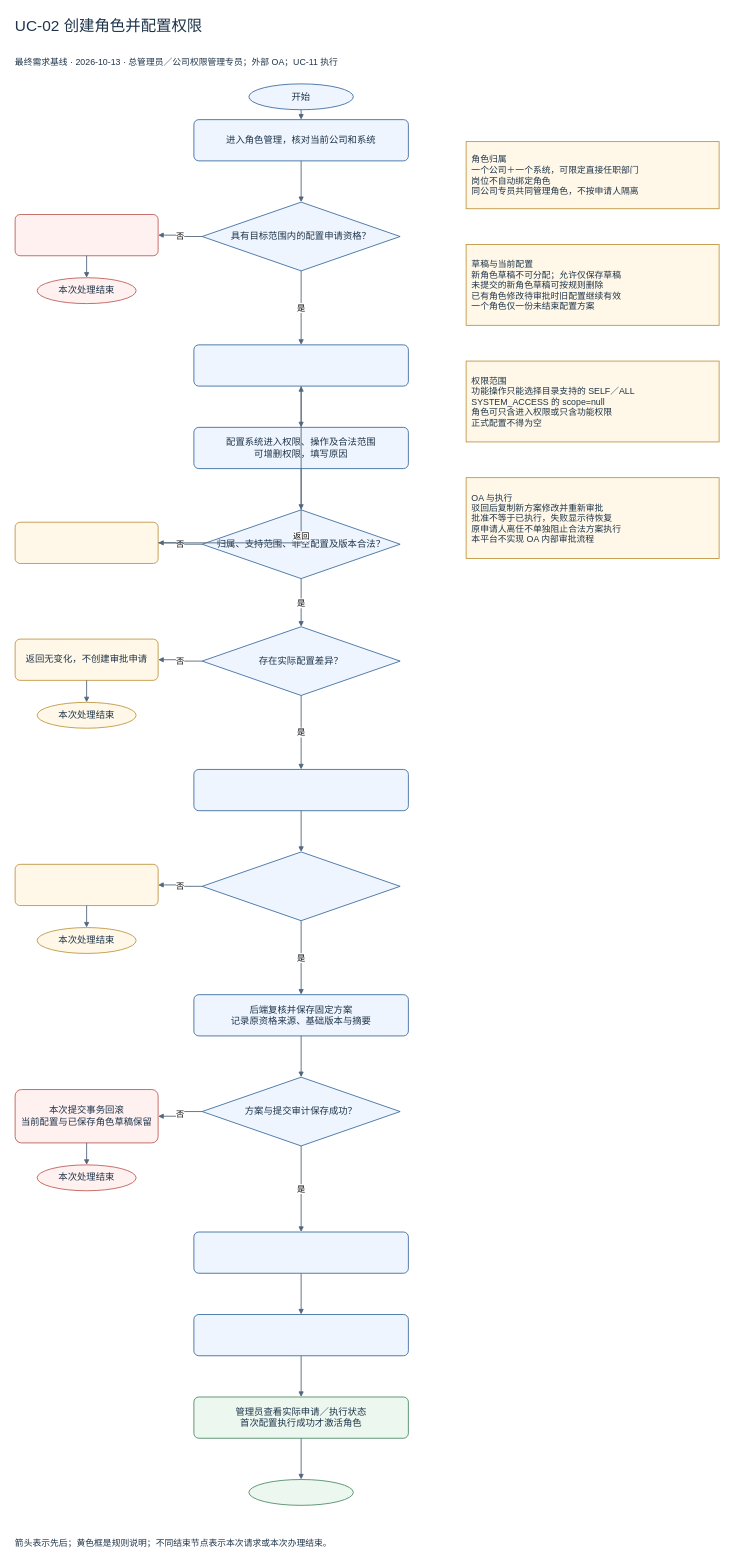
Some shapes in this 745 by 1564 pixel diagram are drawn without their labels. Each missing label, with the centre of its shape:
"仅保留草稿或取消未提交修改 新角色仍不可分配" goes at (86,885).
"外部返回可信最终结果 转 UC-11 接收、复核与自动执行" goes at (301,1335).
"完成本次处理" goes at (301,1492).
"拒绝角色配置申请" goes at (86,235).
"提交／关联外部 OA，显示待审批 当前有效配置不变" goes at (301,1252).
"显示规则错误或版本冲突 重新读取并修正配置" goes at (86,543).
"确认提交配置申请？" goes at (300,886).
"选择已有角色；新角色校验编码唯一 保存待配置草稿及创建审计" goes at (301,365).
"预览权限差异与受影响员工" goes at (301,790).
